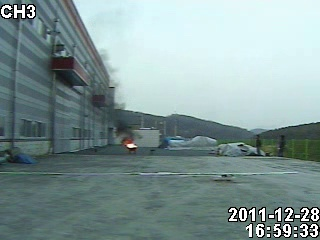fire: (123, 139, 139, 150)
